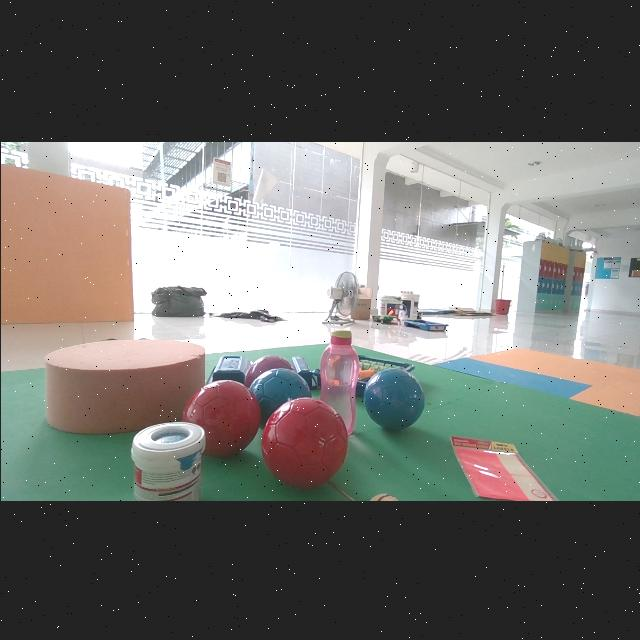B: (362, 367, 423, 428), (248, 366, 310, 420)
P: (243, 354, 293, 386)
R: (260, 397, 348, 487), (182, 378, 260, 454)
